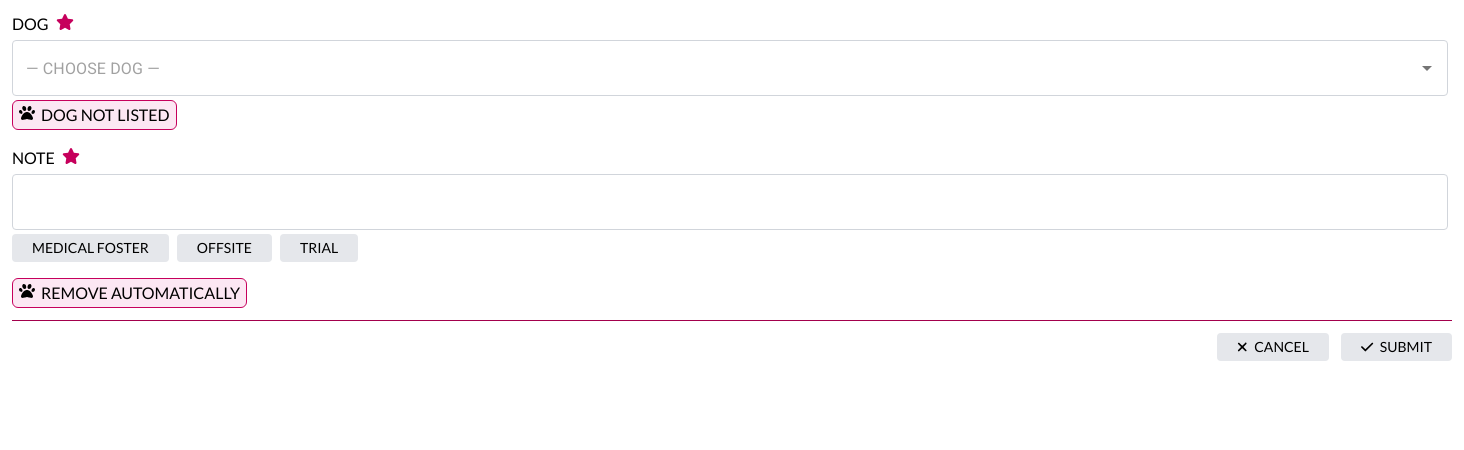
Test: DashboardNoteForm › shows the date picker only when removing automatically
Expected: the text "Last Day Shown" is not shown
Click the text "Remove Automatically" at (140, 293), box [41, 281, 240, 305]
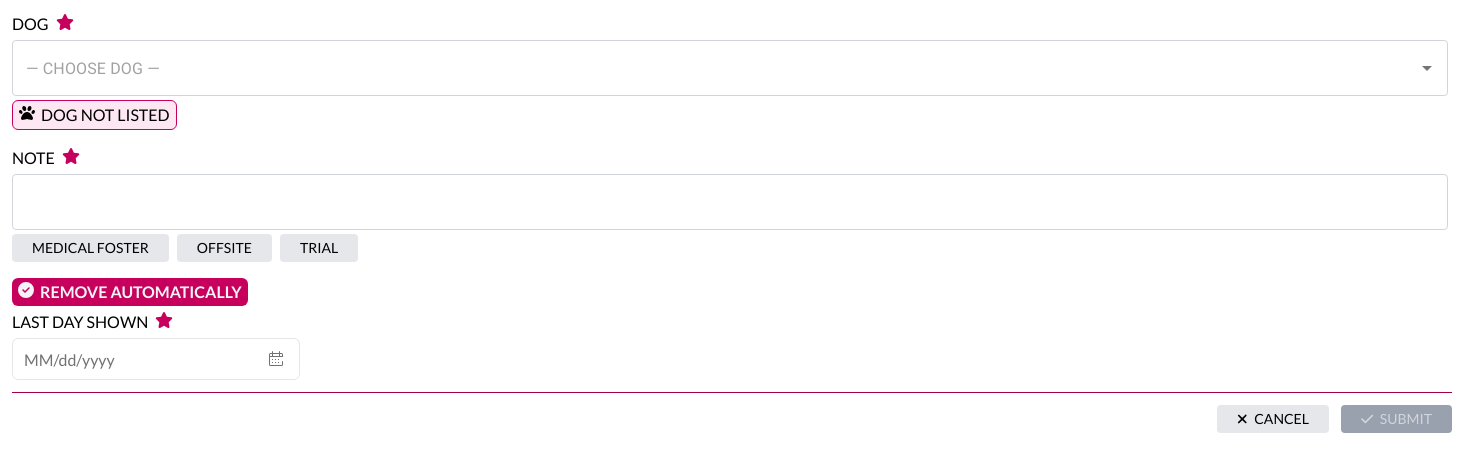
Expected: the picture next to "Last Day Shown" is shown, [155, 312, 173, 328]
